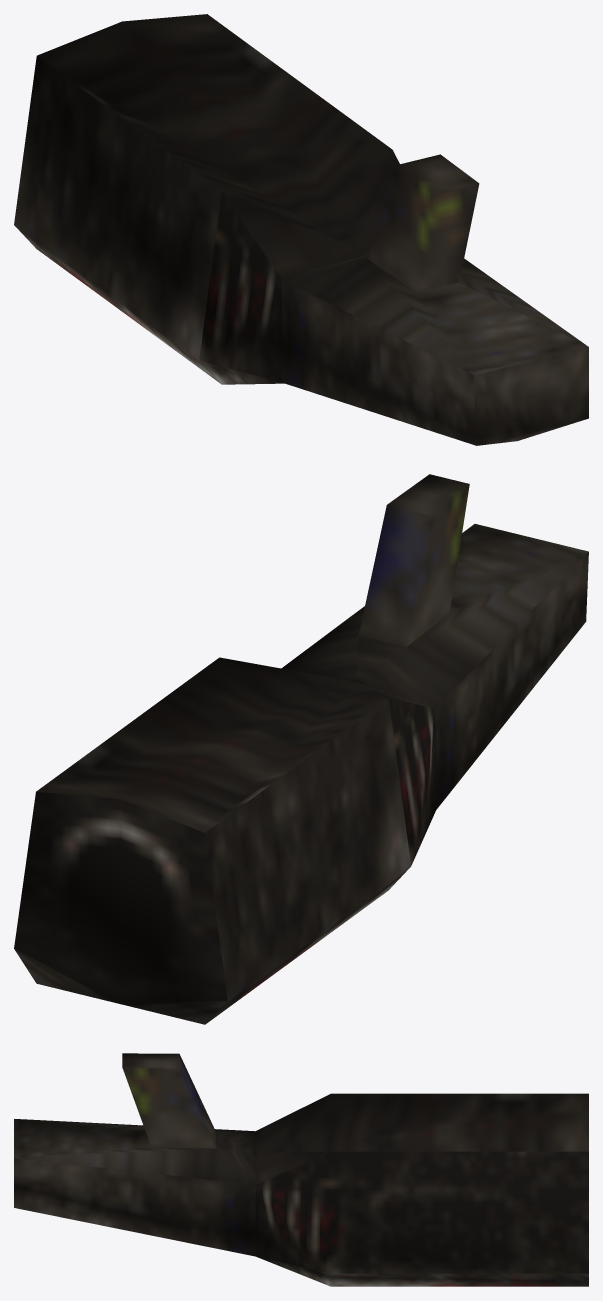
File: PDISP.obj
3 views of the same model, one above another, from view 1: azimuth 30°, elevation 25°; view 2: azimuth 150°, elevation 25°; view 3: azimuth 270°, elevation 25° (orthographic). The views are drawn at different scales.
Visible parts, largest first — view 1: DPistolPick; view 2: DPistolPick; view 3: DPistolPick.
Part boxes in pixels (<box>): DPistolPick: <box>14,14,588,445</box>; DPistolPick: <box>14,474,588,1024</box>; DPistolPick: <box>14,1053,588,1286</box>.
Size of the model in its own units: 18.95 by 23.87 by 62.75.
